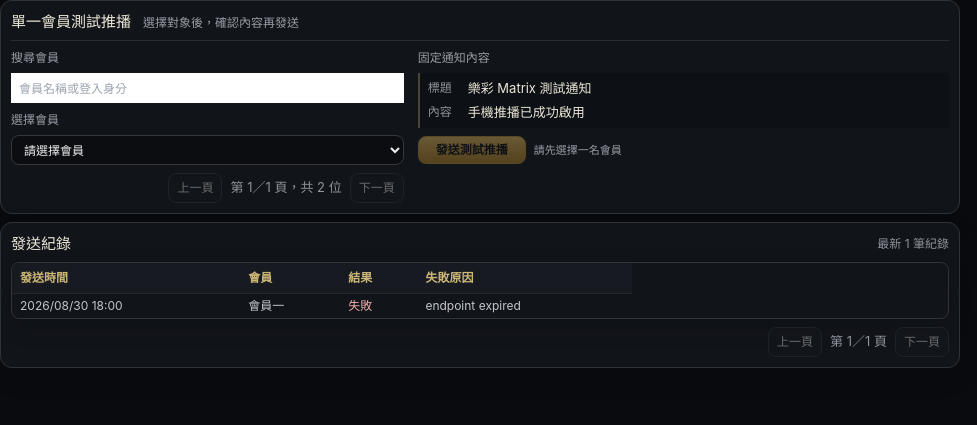
it: NotificationManagement › revalidates members and logs after a 200 response and keeps an expired member disabled
Select "會員一" in the dropdown named "選擇會員" at (207, 150), box [11, 135, 404, 165]
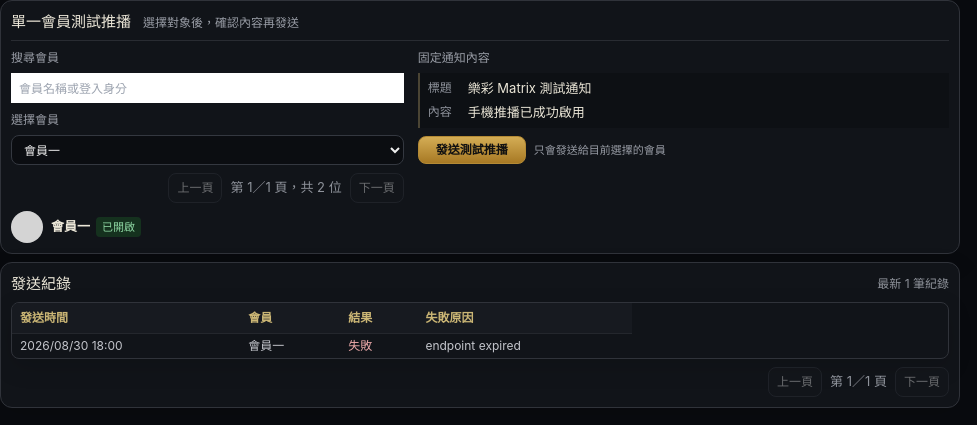
Click the button "發送測試推播" at (472, 150), box [418, 136, 526, 164]
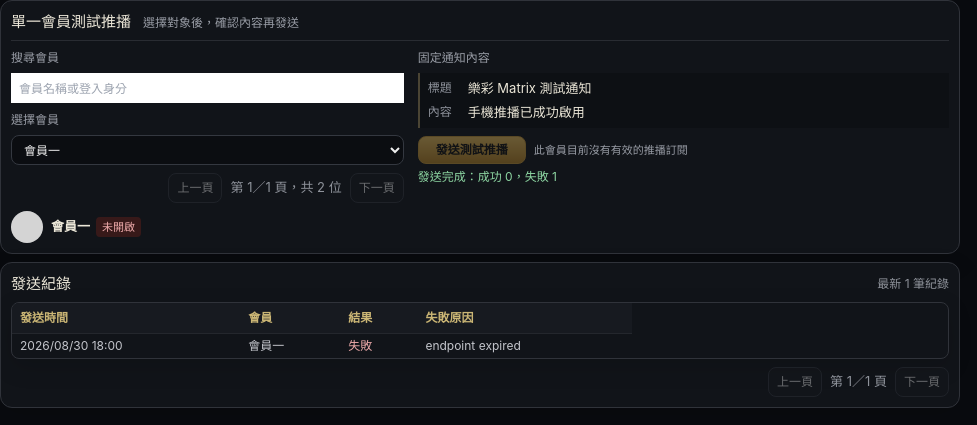
Now the text "發送完成：成功 0，失敗 1" is shown, box [418, 169, 557, 184]
Now the text "未開啟" is shown, box [96, 217, 141, 237]
Now the button "發送測試推播" is disabled, box [418, 136, 526, 164]
